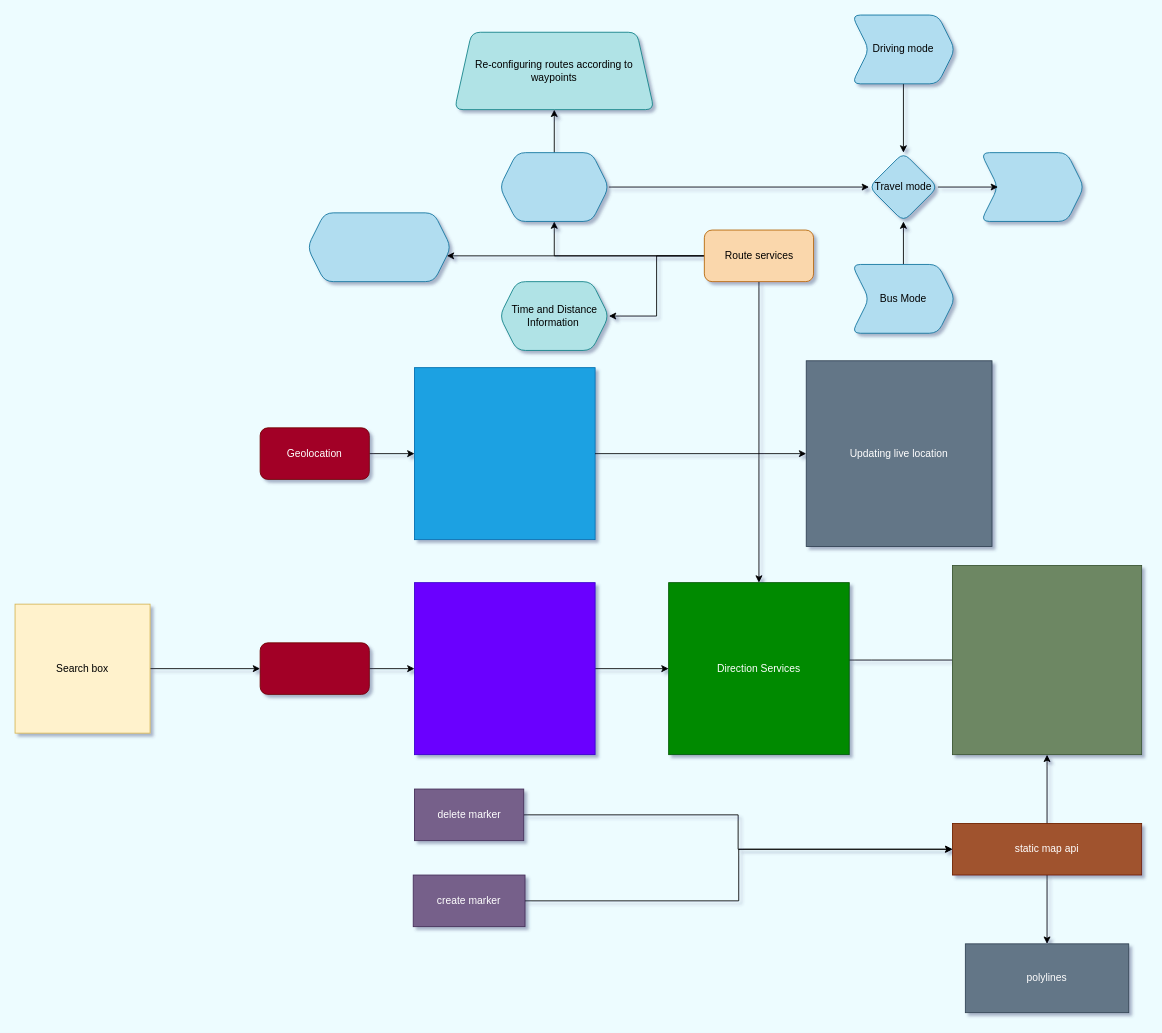
Some shapes in this 1162 by 1033 pixel diagram are drawn without their labels. The centre of each missing label's shape, as x and y in pixels:
Autocomplete: (314,668)
Live location Services: (504,453)
Map: (1047,660)
Optimized route: (554,186)
Place services: (504,668)
Route path coordinates: (379,247)
Walking: (1032,186)
